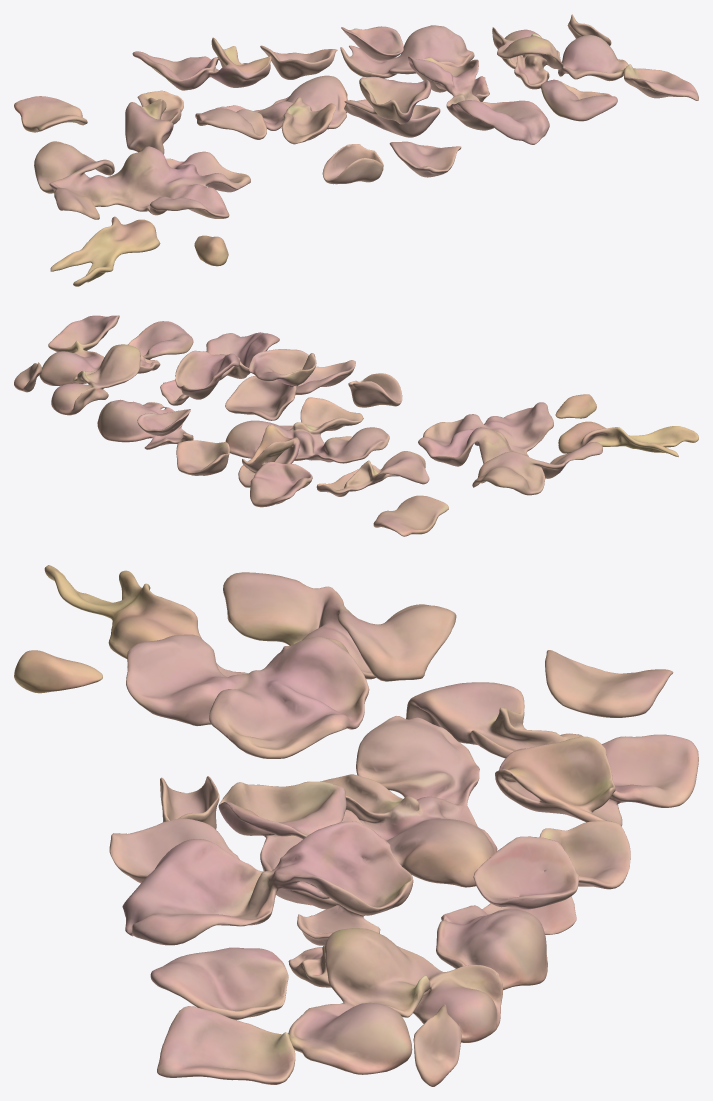
The picture shows the model from 3 angles, top to bottom: view 1: azimuth 30°, elevation 25°; view 2: azimuth 150°, elevation 25°; view 3: azimuth 270°, elevation 25°; orthographic projection. The views are drawn at different scales.
Visible parts, largest first — view 1: Object_01; view 2: Object_01; view 3: Object_01.
Boxes of the visible parts, left/top/right/bottom form: Object_01: left=14, top=14, right=698, bottom=286; Object_01: left=14, top=315, right=698, bottom=536; Object_01: left=14, top=565, right=698, bottom=1086.
Bounding box in the file's own units: 0.9952 × 0.0904 × 0.5655.
1 material, 1 textured.
